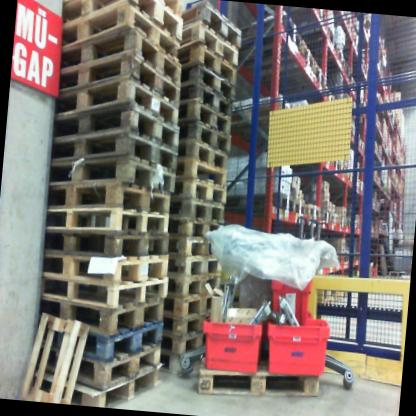pallet: (52, 50, 184, 118), (47, 94, 182, 158), (58, 0, 181, 67), (55, 23, 184, 86), (45, 139, 179, 192), (54, 75, 183, 128), (19, 310, 91, 403), (196, 350, 329, 399), (37, 290, 166, 339), (41, 243, 167, 292), (38, 359, 164, 408), (39, 313, 162, 362), (44, 175, 171, 222), (42, 339, 161, 389), (44, 220, 168, 267), (55, 122, 181, 168), (40, 269, 167, 313), (59, 0, 189, 41), (42, 203, 168, 244), (234, 5, 304, 72), (259, 55, 332, 103), (254, 27, 316, 81), (174, 16, 241, 64), (174, 1, 244, 44), (150, 246, 226, 285), (162, 134, 234, 175), (168, 59, 236, 101), (142, 341, 208, 382), (221, 184, 298, 219), (164, 117, 233, 156), (169, 43, 240, 80), (155, 268, 222, 305), (166, 80, 234, 116), (169, 97, 235, 134), (161, 173, 230, 208), (156, 209, 228, 242), (156, 229, 223, 264), (155, 307, 215, 342), (163, 156, 228, 188), (157, 198, 226, 225), (154, 288, 214, 319), (152, 326, 209, 358), (310, 276, 342, 313), (303, 194, 323, 222), (325, 151, 347, 172), (292, 194, 308, 219), (316, 206, 331, 227), (387, 268, 407, 281)
small_load_carrier: (258, 316, 339, 388), (197, 315, 265, 376), (263, 262, 323, 325)
